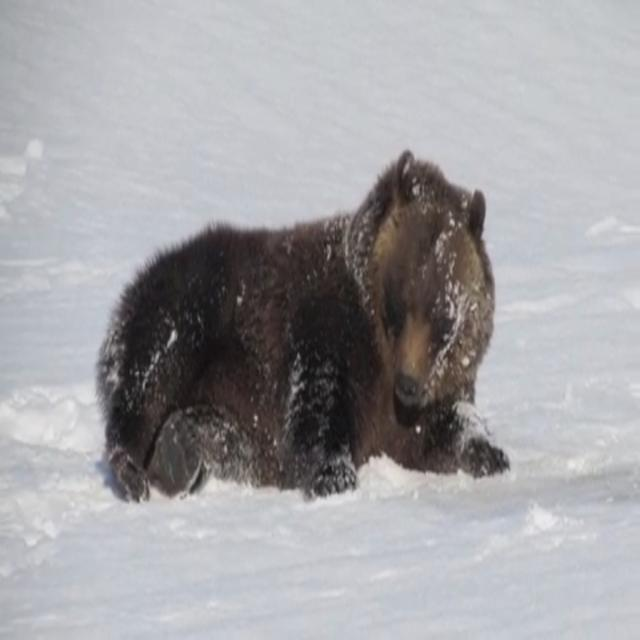Buffalo: (93, 148, 508, 508)
